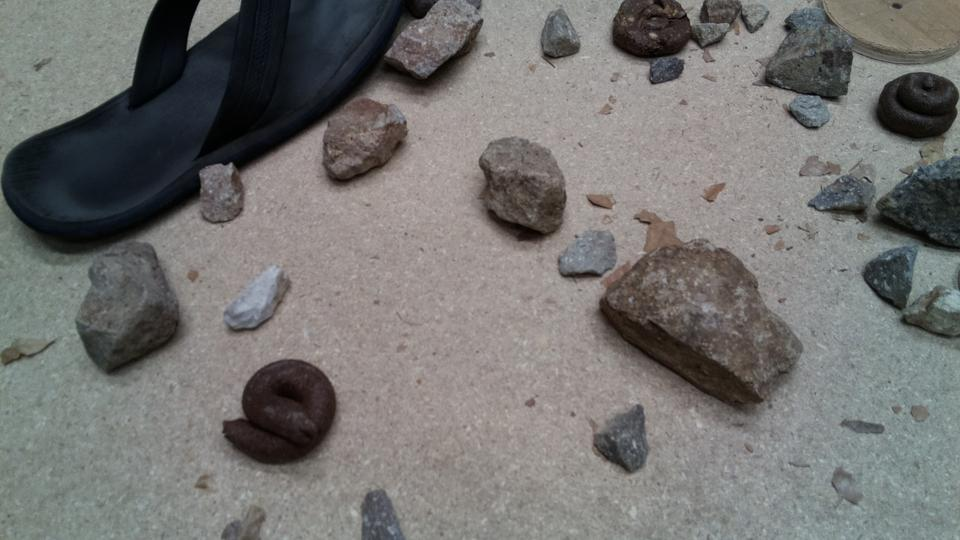poop: (219, 354, 342, 467), (875, 71, 955, 143), (610, 1, 692, 59)
